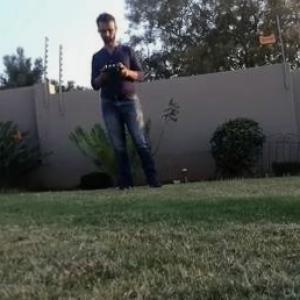follow: (88, 2, 170, 194)
